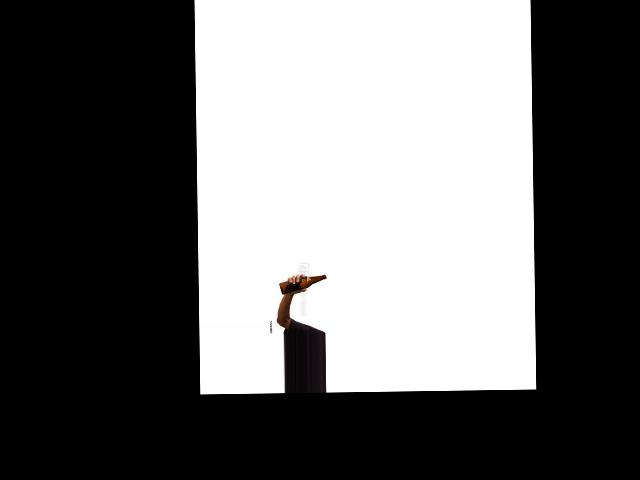beer: (278, 274, 326, 294)
